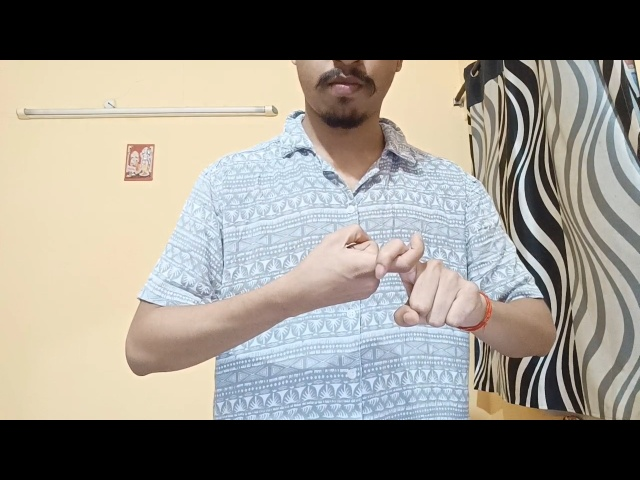Friend: (250, 204, 483, 360)
